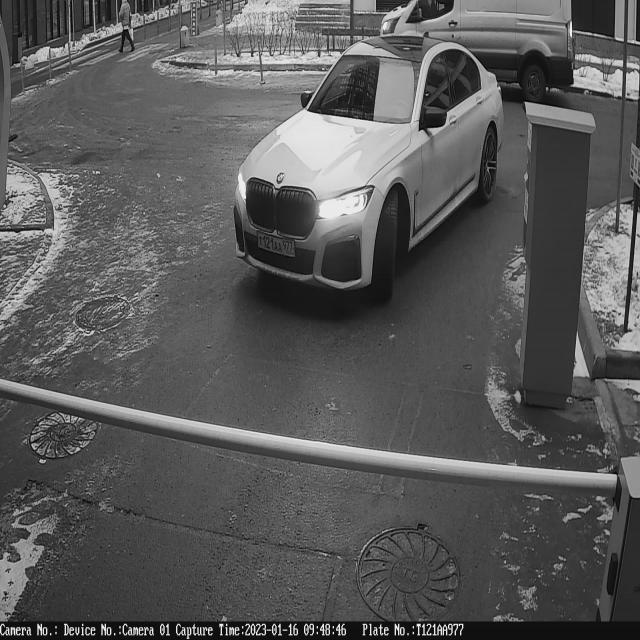car-plate-numbers: (257, 226, 300, 261)
